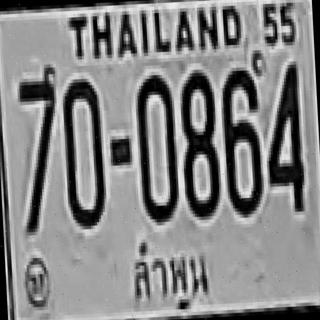N00: (60, 75, 106, 227), (134, 71, 178, 220)
N04: (262, 60, 304, 212)
N06: (219, 67, 263, 215)
N07: (18, 68, 62, 229), (18, 68, 60, 184)
N08: (178, 69, 220, 218)
P21: (125, 233, 215, 317)
